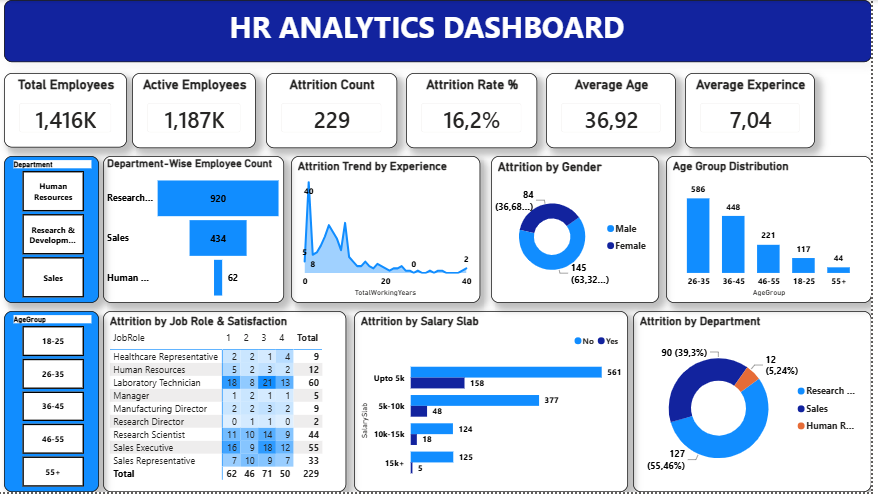

The dashboard page shown, as its layout file describes it:
{"tool":"powerbi","page":{"name":"Page 1","canvas":[1280,720],"ordinal":0},"visuals":[{"type":"textbox","box":[10.1,0,1269.9,90.7],"z":0},{"type":"cardVisual","title":"Total Employees","fields":{"Data":["CountNonNull(HR_Analytics.EmpID)"]},"box":[10.1,107.5,179.7,109.2],"z":1000},{"type":"cardVisual","title":"Active Employees","fields":{"Data":["CountNonNull(HR_Analytics.EmployeeCount)"]},"box":[197.6,106.8,181.5,109.8],"z":2000},{"type":"cardVisual","title":"Attrition Count ","fields":{"Data":["Sum(HR_Analytics.AttritionCount)"]},"box":[393.7,106.8,191.7,109.8],"z":3000},{"type":"cardVisual","title":"Attrition Rate %","fields":{"Data":["HR_Analytics.Attrition Rate %"]},"box":[598.5,106.8,191.7,109.8],"z":4000},{"type":"cardVisual","title":"Average Age","fields":{"Data":["Avg(HR_Analytics.Age)"]},"box":[803.4,106.8,190.2,109.8],"z":5000},{"type":"cardVisual","title":"Average Experince","fields":{"Data":["Avg(HR_Analytics.YearsAtCompany)"]},"box":[1006.8,106.8,190.2,109.8],"z":6000},{"type":"donutChart","title":"Attrition by Department","fields":{"Category":["HR_Analytics.Department"],"Y":["Sum(HR_Analytics.AttritionCount)"]},"box":[930.6,455.2,349.4,265.4],"z":7000},{"type":"clusteredBarChart","title":"Attrition by Salary Slab","fields":{"Category":["HR_Analytics.SalarySlab"],"Y":["CountNonNull(HR_Analytics.EmpID)"],"Series":["HR_Analytics.Attrition"]},"box":[522.4,455.2,401.5,265.4],"z":8000},{"type":"pivotTable","title":"Attrition by Job Role & Satisfaction","fields":{"Columns":["HR_Analytics.JobSatisfaction"],"Rows":["HR_Analytics.JobRole"],"Values":["Sum(HR_Analytics.AttritionCount)"]},"box":[155.1,455.1,355.6,264.9],"z":9000},{"type":"columnChart","title":"Age Group Distribution","fields":{"Category":["HR_Analytics.AgeGroup"],"Y":["Sum(HR_Analytics.EmployeeCount)"]},"box":[979,228.3,301.5,215.1],"z":10000},{"type":"pieChart","title":"Attrition by Gender","fields":{"Category":["HR_Analytics.Gender"],"Y":["Sum(HR_Analytics.AttritionCount)"]},"box":[722.9,228.3,245.9,215.1],"z":11000},{"type":"areaChart","title":"Attrition Trend by Experience","fields":{"Category":["HR_Analytics.TotalWorkingYears"],"Y2":["Sum(HR_Analytics.AttritionCount)"]},"box":[430.2,228.3,276.6,215.1],"z":12000},{"type":"funnel","title":"Department-Wise Employee Count","fields":{"Category":["HR_Analytics.Department"],"Y":["CountNonNull(HR_Analytics.EmpID)"]},"box":[155.1,228.3,264.9,215.1],"z":13000},{"type":"slicer","fields":{"Values":["HR_Analytics.Department"]},"box":[10.2,228.3,139,215.1],"z":14000},{"type":"slicer","fields":{"Values":["HR_Analytics.AgeGroup"]},"box":[10.2,455.1,139,264.9],"z":15000}]}

Visuals, with their boxes in screenshot pixels (x1, y1, x2, y2), scaled from the page's 1280x720 canvas onto the 878x495 screenshot:
textbox: bbox(7, 0, 877, 62)
"Total Employees" cardVisual: bbox(7, 74, 130, 149)
"Active Employees" cardVisual: bbox(136, 73, 260, 149)
"Attrition Count " cardVisual: bbox(270, 73, 402, 149)
"Attrition Rate %" cardVisual: bbox(411, 73, 542, 149)
"Average Age" cardVisual: bbox(551, 73, 682, 149)
"Average Experince" cardVisual: bbox(691, 73, 821, 149)
"Attrition by Department" donutChart: bbox(638, 313, 877, 494)
"Attrition by Salary Slab" clusteredBarChart: bbox(358, 313, 634, 494)
"Attrition by Job Role & Satisfaction" pivotTable: bbox(106, 313, 350, 494)
"Age Group Distribution" columnChart: bbox(672, 157, 877, 305)
"Attrition by Gender" pieChart: bbox(496, 157, 665, 305)
"Attrition Trend by Experience" areaChart: bbox(295, 157, 485, 305)
"Department-Wise Employee Count" funnel: bbox(106, 157, 288, 305)
slicer - HR_Analytics.Department: bbox(7, 157, 102, 305)
slicer - HR_Analytics.AgeGroup: bbox(7, 313, 102, 494)
